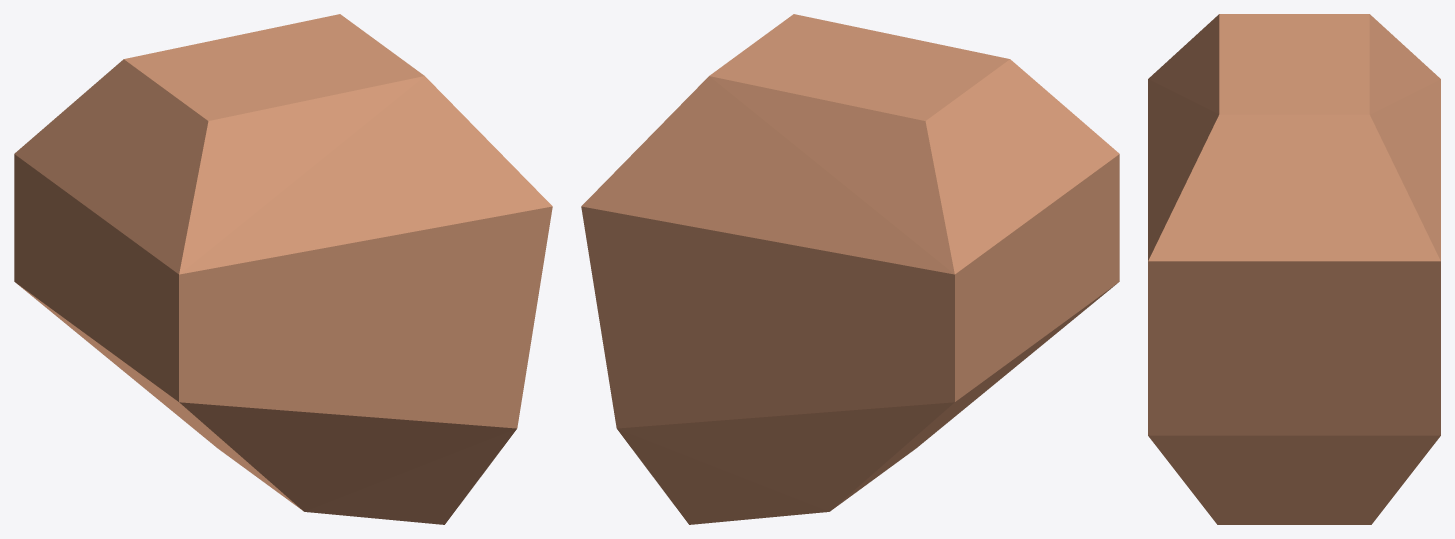
Rendered from head.dae.
The picture shows the model from 3 angles, left to right: view 1: azimuth 30°, elevation 25°; view 2: azimuth 150°, elevation 25°; view 3: azimuth 270°, elevation 25°; orthographic projection. The views are drawn at different scales.
Visible parts, largest first — view 1: head; view 2: head; view 3: head.
Boxes of the visible parts, box(x1,y1,x2,y2) form: head: box(14, 14, 552, 524); head: box(581, 14, 1119, 524); head: box(1148, 14, 1440, 524).
Size of the model in its own units: 0.1861 by 0.1423 by 0.2192.
